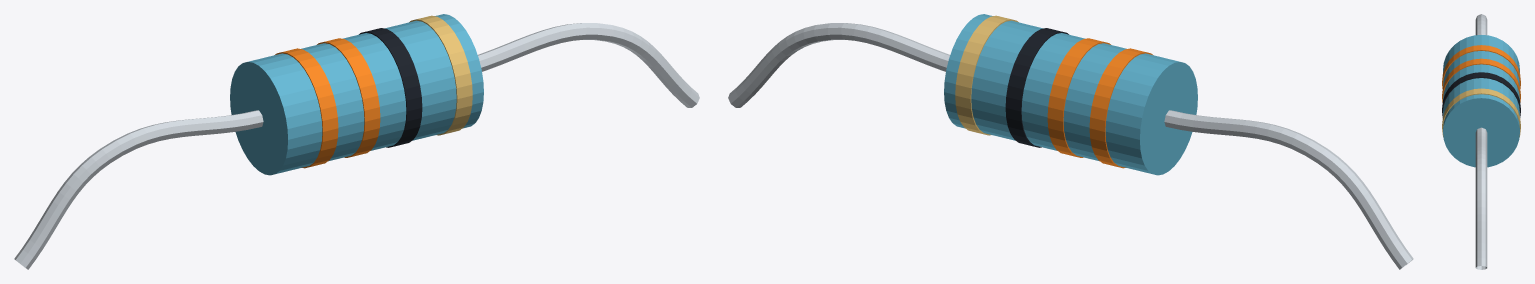
File: resistor.glb
The picture shows the model from 3 angles, left to right: view 1: azimuth 30°, elevation 25°; view 2: azimuth 150°, elevation 25°; view 3: azimuth 270°, elevation 25°; orthographic projection. The views are drawn at different scales.
Visible parts, largest first — view 1: Static body • resistorBlue, Static body • silver, Static body • orange, Static body • gold, Static body • black; view 2: Static body • resistorBlue, Static body • silver, Static body • orange, Static body • gold, Static body • black; view 3: Static body • resistorBlue, Static body • silver, Static body • orange, Static body • gold, Static body • black.
Part boxes in pixels (x1=…): Static body • resistorBlue: x1=230, y1=14, x2=483, y2=175; Static body • silver: x1=14, y1=23, x2=699, y2=269; Static body • orange: x1=274, y1=38, x2=380, y2=168; Static body • gold: x1=409, y1=15, x2=472, y2=135; Static body • black: x1=359, y1=28, x2=422, y2=147; Static body • resistorBlue: x1=944, y1=14, x2=1197, y2=175; Static body • silver: x1=728, y1=23, x2=1413, y2=269; Static body • orange: x1=1047, y1=38, x2=1153, y2=168; Static body • gold: x1=955, y1=15, x2=1018, y2=135; Static body • black: x1=1005, y1=28, x2=1068, y2=147; Static body • resistorBlue: x1=1443, y1=35, x2=1519, y2=167; Static body • silver: x1=1475, y1=14, x2=1487, y2=269; Static body • orange: x1=1442, y1=45, x2=1520, y2=102; Static body • gold: x1=1442, y1=88, x2=1520, y2=136; Static body • black: x1=1442, y1=72, x2=1520, y2=117.
Bounding box in the file's own units: 24.4 × 5.04 × 3.68.
